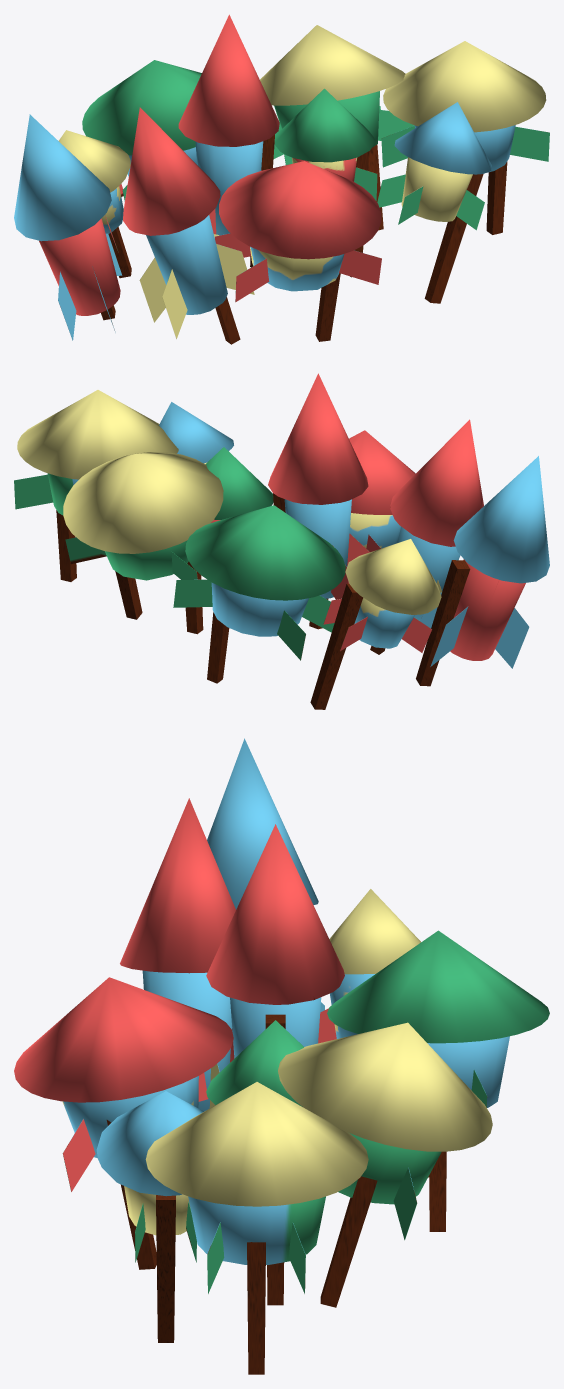
File: Fireworks group.fbx
3 views of the same model, one above another, from view 1: azimuth 30°, elevation 25°; view 2: azimuth 150°, elevation 25°; view 3: azimuth 270°, elevation 25° (orthographic). The views are drawn at different scales.
Parts seen in each view (by area): view 1: firework stick.001; view 2: firework stick.001; view 3: firework stick.001.
Boxes of the visible parts, left/top/right/bottom form: firework stick.001: left=14, top=14, right=549, bottom=344; firework stick.001: left=14, top=373, right=549, bottom=709; firework stick.001: left=14, top=738, right=549, bottom=1374.
Bounding box in the file's own units: 21.79 × 12.19 × 14.38.
